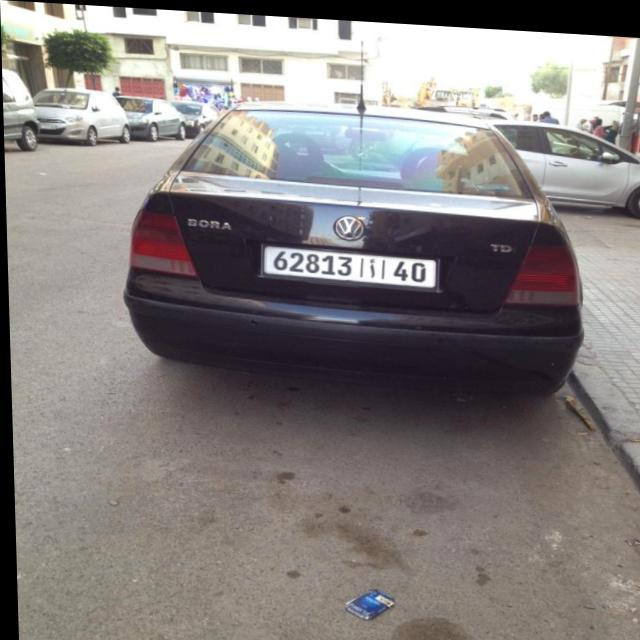License-Plate: (261, 243, 436, 283)
